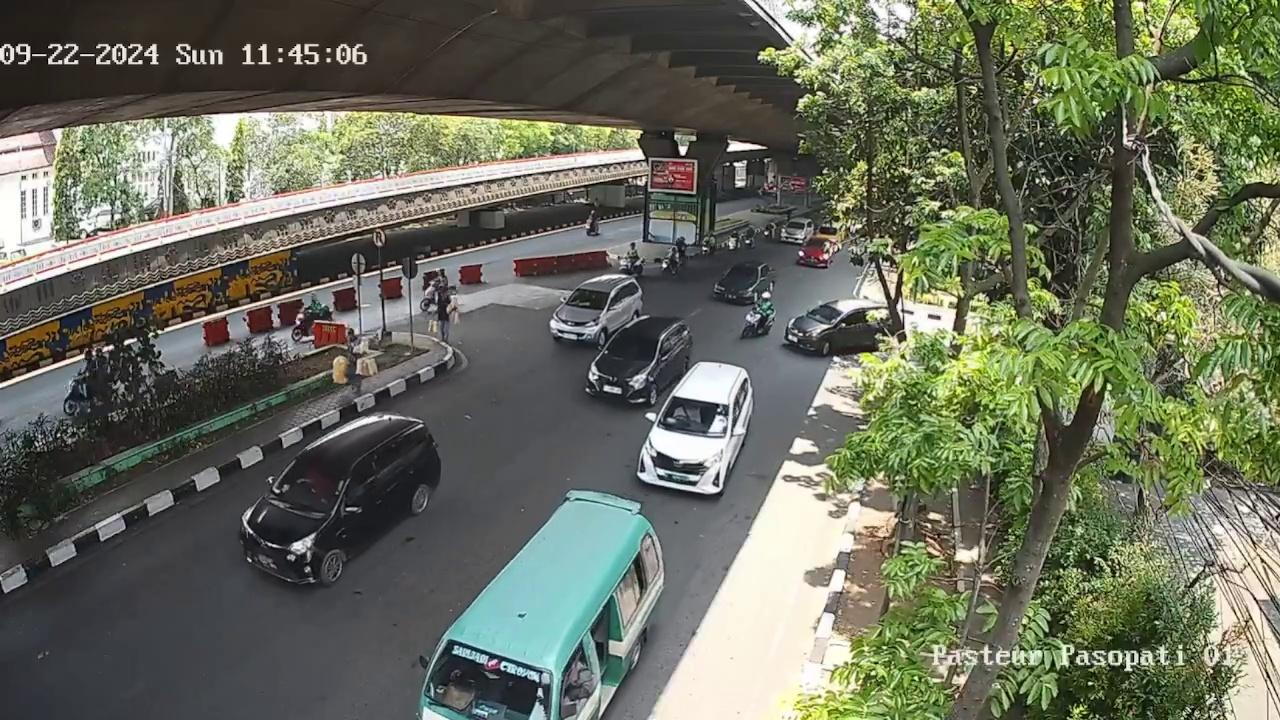pakai: (674, 405, 703, 426)
tidak-pakai: (296, 466, 332, 500)
windshield: (423, 643, 552, 720), (269, 455, 347, 515), (658, 397, 731, 438), (606, 331, 659, 362), (570, 285, 610, 309), (808, 304, 843, 325)
